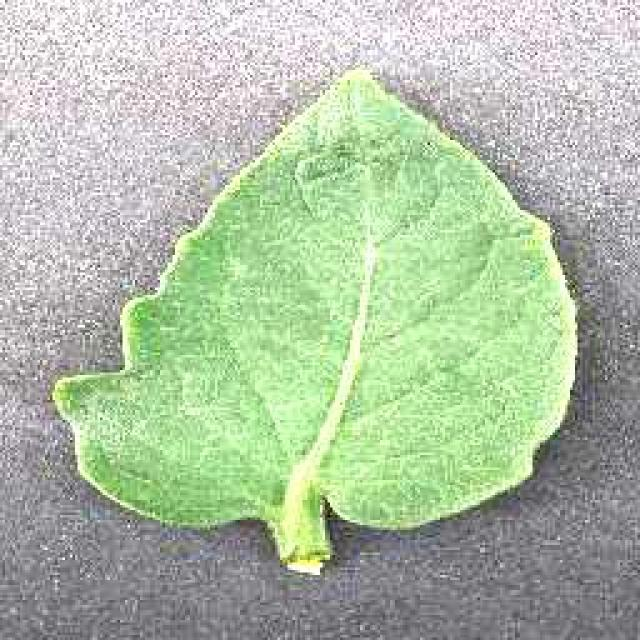Tomato___healthy: (47, 67, 581, 572)
